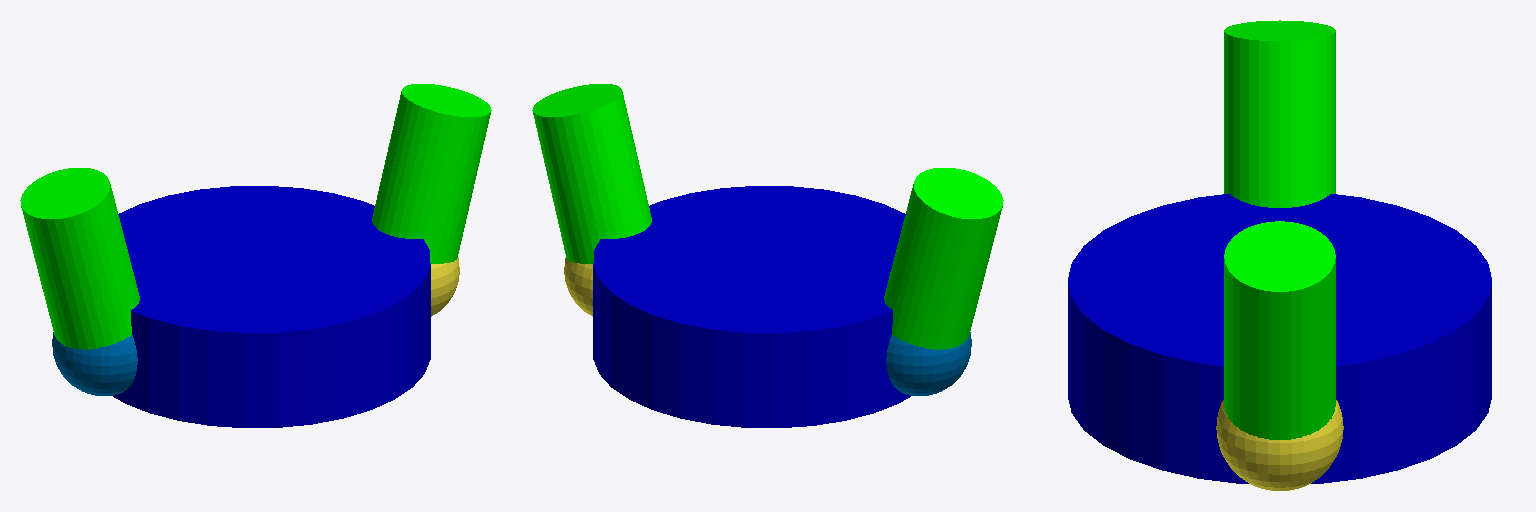
URDF robot description (gripper_2f_1j):
<?xml version='1.0' encoding='UTF-8'?>
<robot name="gripper_2f_1j">
  <link name="palm">
    <inertial>
      <origin xyz="0.0 0.0 0.0" rpy="0.0 -0.0 0.0"/>
      <mass value="1.0"/>
      <inertia ixx="1.0" ixy="0.0" ixz="0.0" iyy="1.0" iyz="0.0" izz="1.0"/>
    </inertial>
    <visual>
      <geometry>
        <cylinder radius="0.05" length="0.03"/>
      </geometry>
      <material name="blue"/>
      <origin xyz="0.0 0.0 0.0" rpy="0.0 -0.0 0.0"/>
    </visual>
    <collision>
      <geometry>
        <cylinder radius="0.05" length="0.03"/>
      </geometry>
      <origin xyz="0.0 0.0 0.0" rpy="0.0 0.0 0.0"/>
    </collision>
  </link>
  <link name="f11">
    <inertial>
      <origin xyz="0.0 0.0 0.0" rpy="0.0 -0.0 0.0"/>
      <mass value="1.0"/>
      <inertia ixx="1.0" ixy="0.0" ixz="0.0" iyy="1.0" iyz="0.0" izz="1.0"/>
    </inertial>
    <visual>
      <geometry>
        <cylinder radius="0.013166122544302404" length="0.052104857260107204"/>
      </geometry>
      <material name="green"/>
      <origin xyz="0.0 0.0 0.026052428630053602" rpy="0.0 -0.0 0.0"/>
    </visual>
    <collision>
      <geometry>
        <cylinder radius="0.013166122544302404" length="0.052104857260107204"/>
      </geometry>
      <origin xyz="0.0 0.0 0.05" rpy="0.0 0.0 0.0"/>
    </collision>
  </link>
  <link name="f21">
    <inertial>
      <origin xyz="0.0 0.0 0.0" rpy="0.0 -0.0 0.0"/>
      <mass value="1.0"/>
      <inertia ixx="1.0" ixy="0.0" ixz="0.0" iyy="1.0" iyz="0.0" izz="1.0"/>
    </inertial>
    <visual>
      <geometry>
        <cylinder radius="0.013166122544302404" length="0.052104857260107204"/>
      </geometry>
      <material name="green"/>
      <origin xyz="0.0 0.0 0.026052428630053602" rpy="0.0 -0.0 0.0"/>
    </visual>
    <collision>
      <geometry>
        <cylinder radius="0.013166122544302404" length="0.052104857260107204"/>
      </geometry>
      <origin xyz="0.0 0.0 0.05" rpy="0.0 0.0 0.0"/>
    </collision>
  </link>
  <link name="f11_base">
    <inertial>
      <origin xyz="0.0 0.0 0.0" rpy="0.0 -0.0 0.0"/>
      <mass value="1.0"/>
      <inertia ixx="1.0" ixy="0.0" ixz="0.0" iyy="1.0" iyz="0.0" izz="1.0"/>
    </inertial>
    <visual>
      <geometry>
        <sphere radius="0.015"/>
      </geometry>
      <origin xyz="0.0 0.0 0.0" rpy="0.0 -0.0 0.0"/>
    </visual>
  </link>
  <link name="f21_base">
    <inertial>
      <origin xyz="0.0 0.0 0.0" rpy="0.0 -0.0 0.0"/>
      <mass value="1.0"/>
      <inertia ixx="1.0" ixy="0.0" ixz="0.0" iyy="1.0" iyz="0.0" izz="1.0"/>
    </inertial>
    <visual>
      <geometry>
        <sphere radius="0.015"/>
      </geometry>
      <origin xyz="0.0 0.0 0.0" rpy="0.0 -0.0 0.0"/>
    </visual>
  </link>
  <joint name="f11_joint" type="revolute">
    <dynamics damping="100.0" friction="1.0"/>
    <limit effort="30.0" velocity="2.0" lower="-0.6" upper="0.25"/>
    <parent link="f11_base"/>
    <child link="f11"/>
    <axis xyz="0. 1. 0."/>
    <origin xyz="0.0 0.0 0.0" rpy="0.0 0.25 0.0"/>
  </joint>
  <joint name="f21_joint" type="revolute">
    <dynamics damping="100.0" friction="1.0"/>
    <limit effort="30.0" velocity="2.0" lower="-0.6" upper="0.25"/>
    <parent link="f21_base"/>
    <child link="f21"/>
    <axis xyz=" 0. -1.  0."/>
    <origin xyz="0.0 0.0 0.0" rpy="0.0 -0.25 0.0"/>
  </joint>
  <joint name="f11_base_joint" type="fixed">
    <parent link="palm"/>
    <child link="f11_base"/>
    <axis xyz="1. 0. 0."/>
    <origin xyz="0.05 0.0 0.0" rpy="0.0 0.0 0.0"/>
  </joint>
  <joint name="f21_base_joint" type="fixed">
    <parent link="palm"/>
    <child link="f21_base"/>
    <axis xyz="1. 0. 0."/>
    <origin xyz="-0.05 -0.0 0.0" rpy="0.0 0.0 0.0"/>
  </joint>
  <material name="blue">
    <color rgba="0.  0.  0.8 1. "/>
  </material>
  <material name="green">
    <color rgba="0. 1. 0. 1."/>
  </material>
</robot>

--- What the picture shows (computed from the rendered views, not written in the file) ---
Views: 3 orthographic renders of the robot side by side, from view 1: azimuth 30°, elevation 25°; view 2: azimuth 150°, elevation 25°; view 3: azimuth 270°, elevation 25°.
Robot: gripper_2f_1j — 5 links, 4 joints (2 revolute, 2 fixed); root link palm; default pose: every joint at zero.
Visible links, largest first — view 1: palm, f21, f11, f21_base, f11_base; view 2: palm, f21, f11, f21_base, f11_base; view 3: palm, f11, f21, f11_base.
Link boxes in pixels (left/top/right/bottom): palm: left=113, top=186, right=430, bottom=427; f21: left=20, top=168, right=139, bottom=349; f11: left=372, top=84, right=491, bottom=263; f21_base: left=52, top=332, right=137, bottom=395; f11_base: left=431, top=258, right=459, bottom=316; palm: left=593, top=186, right=910, bottom=427; f21: left=884, top=168, right=1003, bottom=349; f11: left=532, top=84, right=651, bottom=263; f21_base: left=886, top=332, right=971, bottom=395; f11_base: left=564, top=258, right=592, bottom=316; palm: left=1068, top=194, right=1491, bottom=483; f11: left=1224, top=221, right=1335, bottom=439; f21: left=1224, top=20, right=1335, bottom=207; f11_base: left=1216, top=400, right=1343, bottom=490.
Bounding box of the posed robot: 0.1513 × 0.1 × 0.0687 m (x, y, z).
Geometry: primitives only (box / cylinder / sphere), no mesh files.